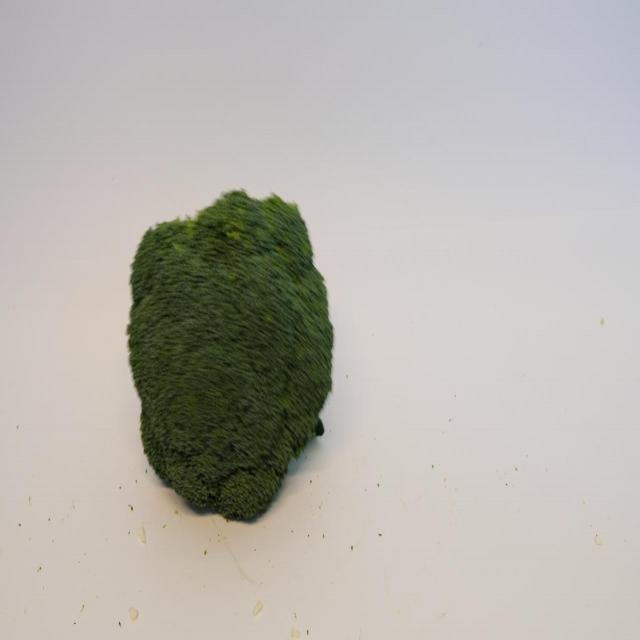broccoli: (122, 161, 335, 525)
